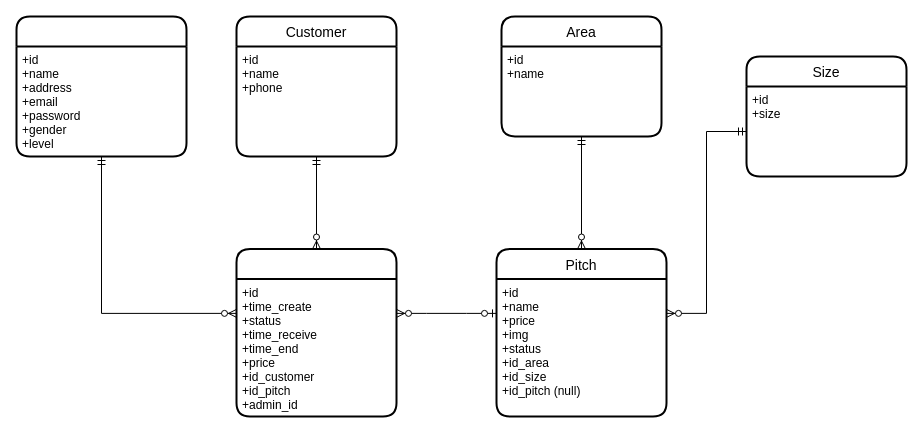
Image size: 923x433. Some labels were removed from this diagram. Here are the shapes that lost their labels. From the top down, the box of each, then its label:
(15, 15, 187, 157): Admin
(235, 248, 397, 417): Bill
